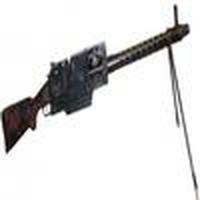gun: (1, 24, 200, 155)
